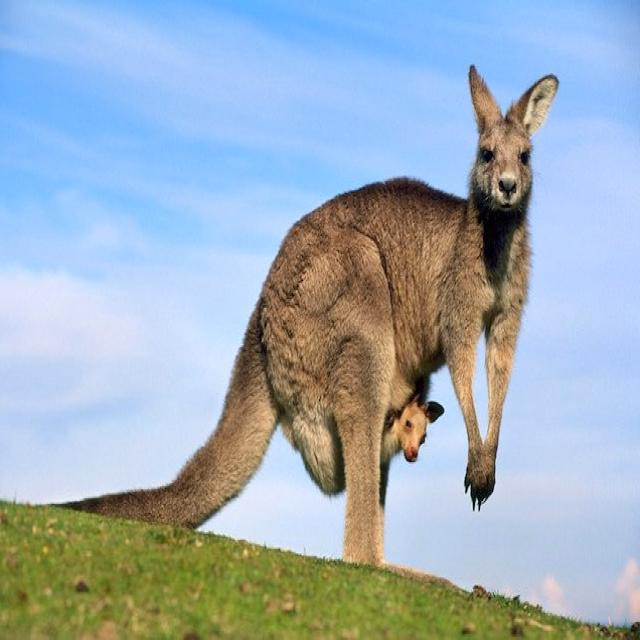kangaroo: (79, 66, 558, 564)
